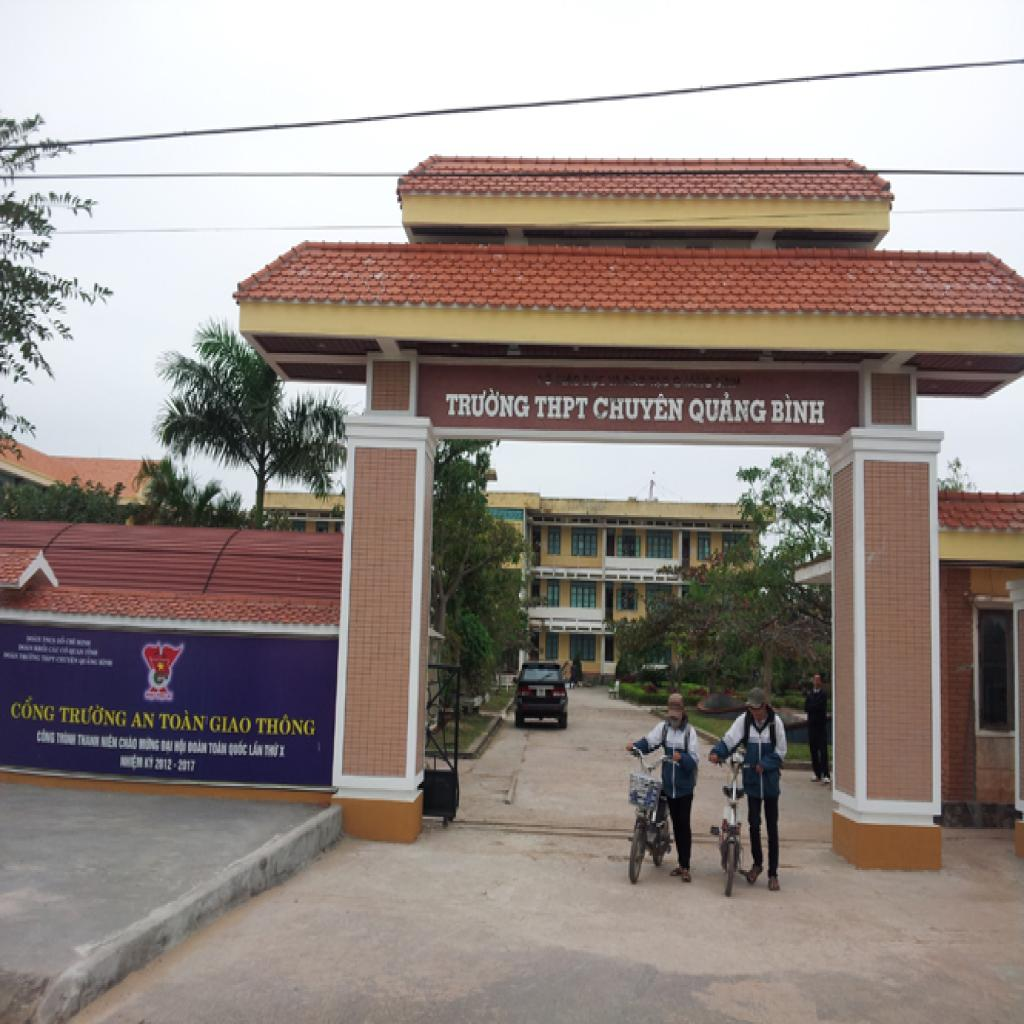text: (444, 384, 532, 425), (591, 392, 687, 427), (687, 392, 768, 427), (768, 392, 828, 427), (58, 702, 130, 730), (533, 392, 590, 425), (254, 712, 317, 739), (9, 694, 59, 726), (157, 710, 208, 737), (208, 712, 254, 735), (129, 710, 157, 733), (172, 762, 178, 770)
